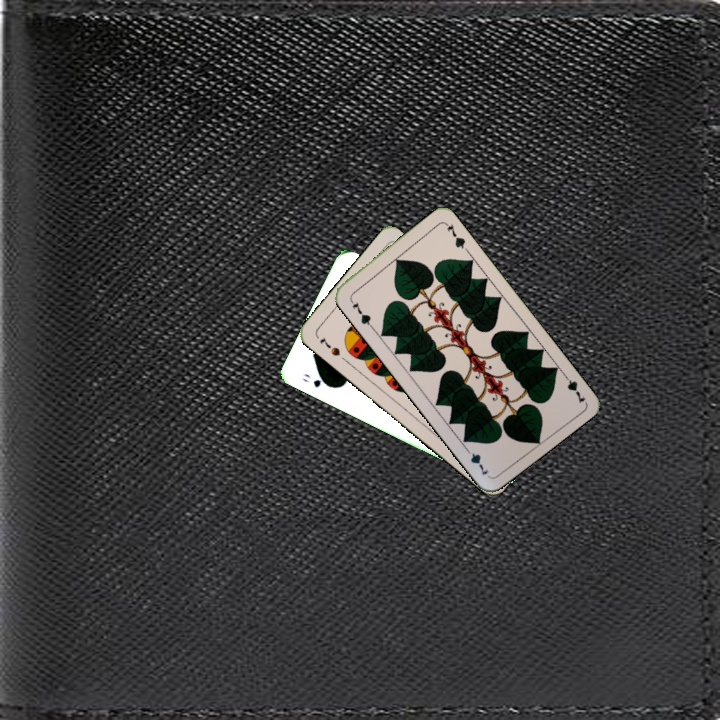G7: (558, 368, 588, 406), (346, 295, 375, 330)
GO: (298, 369, 334, 390)
S7: (316, 333, 343, 359)
